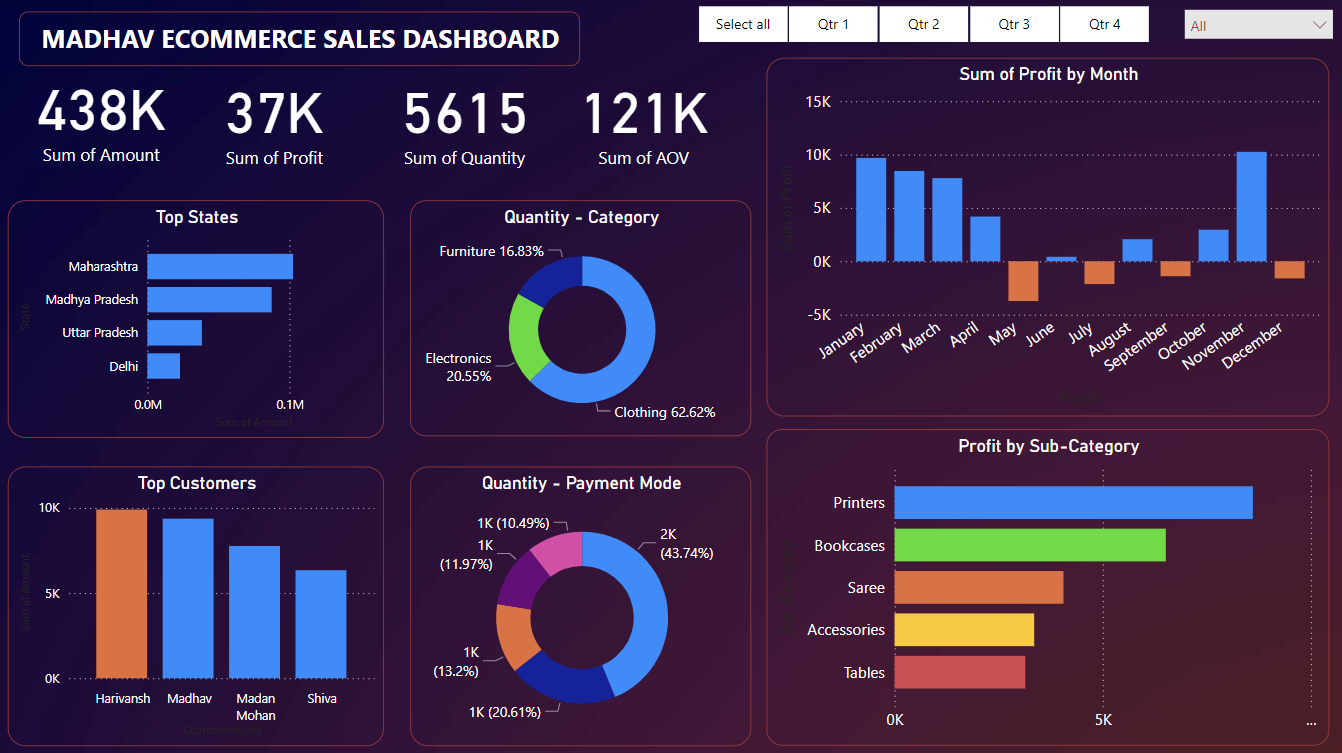

Layout of this report page (visuals, bound fields, positions):
{"tool":"powerbi","page":{"name":"Page 1","canvas":[1280,720],"ordinal":0},"visuals":[{"type":"clusteredColumnChart","fields":{"Y":["Sum(Details.Profit)"],"Category":["Orders.Order Date.Variation.Date Hierarchy.Month"]},"box":[731.2,56.2,536.2,341.2],"z":0},{"type":"textbox","box":[19,11.9,534.5,52.4],"z":1000},{"type":"slicer","fields":{"Values":["Orders.State"]},"box":[1118.8,0,161.2,56.2],"z":2000},{"type":"barChart","title":"Profit by Sub-Category","fields":{"Y":["Sum(Details.Profit)"],"Category":["Details.Sub-Category"]},"box":[731.2,410,536.2,301.2],"z":3000},{"type":"card","fields":{"Values":["Sum(Details.Amount)"]},"box":[19,47.6,157.1,123.8],"z":4000},{"type":"card","fields":{"Values":["Sum(Details.Profit)"]},"box":[188.1,56,148.8,113.1],"z":5000},{"type":"card","fields":{"Values":["Sum(Details.Quantity)"]},"box":[366.7,56,153.6,113.1],"z":6000},{"type":"card","fields":{"Values":["Sum(Details.AOV)"]},"box":[527.4,56,173.8,113.1],"z":7000},{"type":"barChart","title":"Top States","fields":{"Y":["Sum(Details.Amount)"],"Category":["Orders.State"]},"box":[8.8,191.2,358.8,226.2],"z":8000},{"type":"donutChart","title":"Quantity - Category","fields":{"Y":["Sum(Details.Quantity)"],"Category":["Details.Category"]},"box":[391.7,191.7,325,225],"z":9000},{"type":"columnChart","title":"Top Customers","fields":{"Y":["Sum(Details.Amount)"],"Category":["Orders.CustomerName"]},"box":[8.8,445,358.8,266.2],"z":10000},{"type":"donutChart","title":"Quantity - Payment Mode","fields":{"Category":["Details.PaymentMode"],"Y":["Sum(Details.Quantity)"]},"box":[391.2,445,325,266.2],"z":11000},{"type":"slicer","fields":{"Values":["Orders.Order Date.Variation.Date Hierarchy.Quarter"]},"box":[640,0,478.8,47.5],"z":12000}]}

Visuals, with their boxes in screenshot pixels (x1, y1, x2, y2), scaled from the page's 1280x720 canvas onto the 1342x753 screenshot:
clusteredColumnChart - Sum(Details.Profit) x Orders.Order Date.Variation.Date Hierarchy.Month: [767, 59, 1329, 416]
textbox: [20, 12, 580, 67]
slicer - Orders.State: [1173, 0, 1341, 59]
"Profit by Sub-Category" barChart: [767, 429, 1329, 744]
card - Sum(Details.Amount): [20, 50, 185, 179]
card - Sum(Details.Profit): [197, 59, 353, 177]
card - Sum(Details.Quantity): [384, 59, 546, 177]
card - Sum(Details.AOV): [553, 59, 735, 177]
"Top States" barChart: [9, 200, 385, 437]
"Quantity - Category" donutChart: [411, 200, 751, 436]
"Top Customers" columnChart: [9, 465, 385, 744]
"Quantity - Payment Mode" donutChart: [410, 465, 751, 744]
slicer - Orders.Order Date.Variation.Date Hierarchy.Quarter: [671, 0, 1173, 50]
